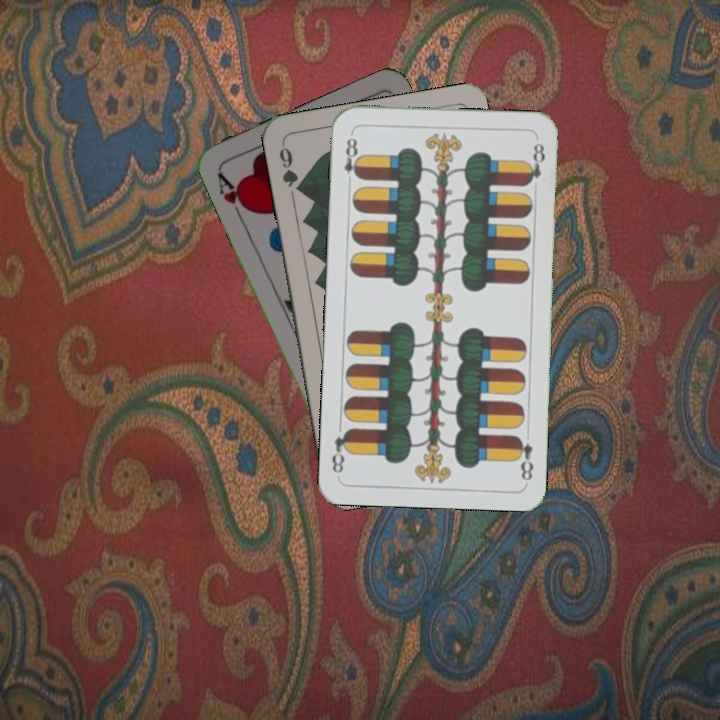E8: (340, 129, 364, 188), (512, 432, 536, 483)
G9: (275, 140, 306, 196)
HA: (213, 168, 253, 223)
